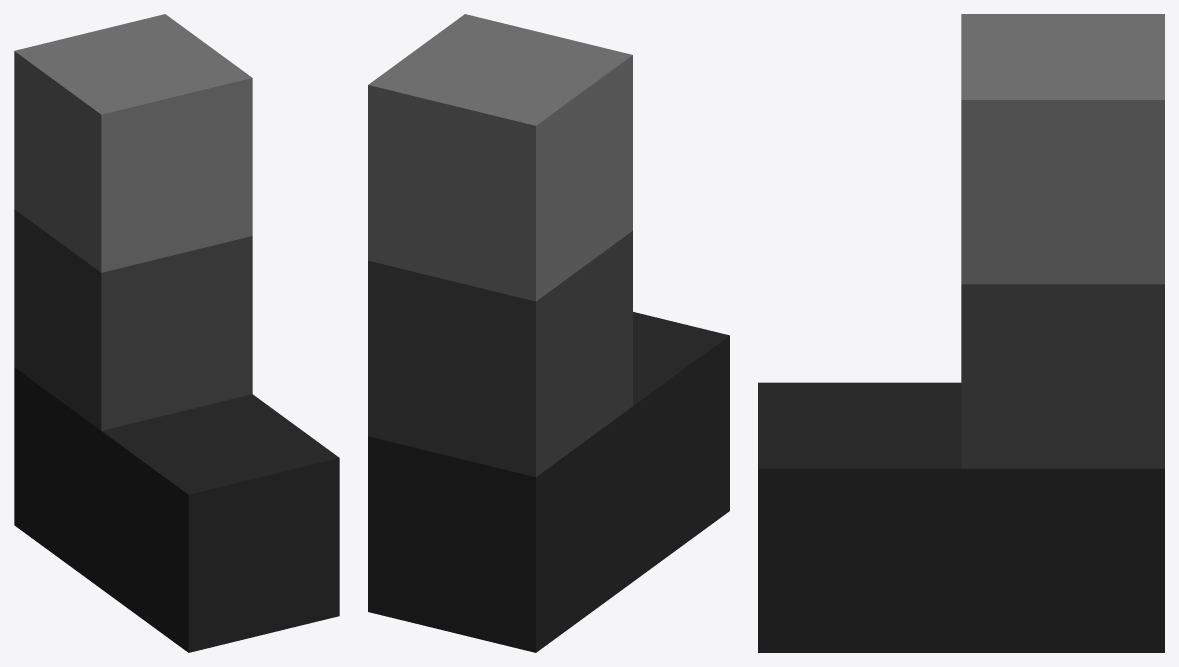
Rendered from people_3-1.obj.
The picture shows the model from 3 angles, left to right: view 1: azimuth 30°, elevation 25°; view 2: azimuth 150°, elevation 25°; view 3: azimuth 270°, elevation 25°; orthographic projection. The views are drawn at different scales.
Size of the model in its own units: 0.1 by 0.3 by 0.2.
Materials: 1 (1 with a texture image).
